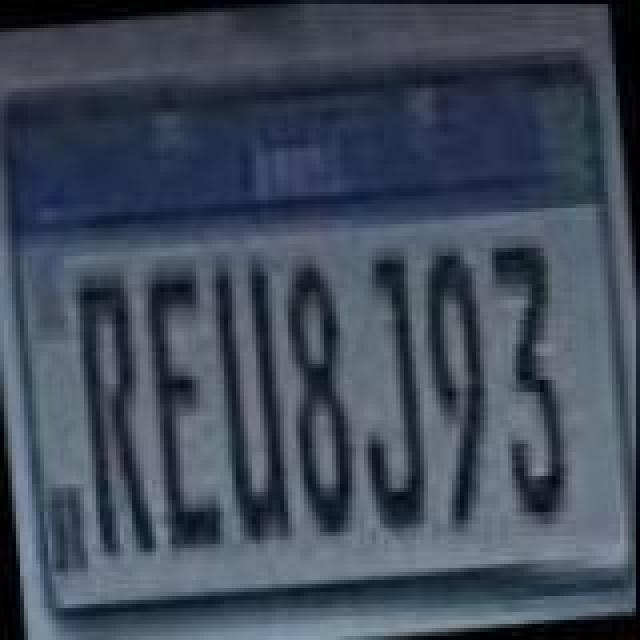3: (488, 234, 576, 526)
8: (280, 258, 360, 538)
9: (424, 248, 504, 536)
E: (140, 266, 228, 558)
J: (348, 248, 436, 536)
R: (72, 274, 160, 566)
U: (214, 264, 298, 552)
